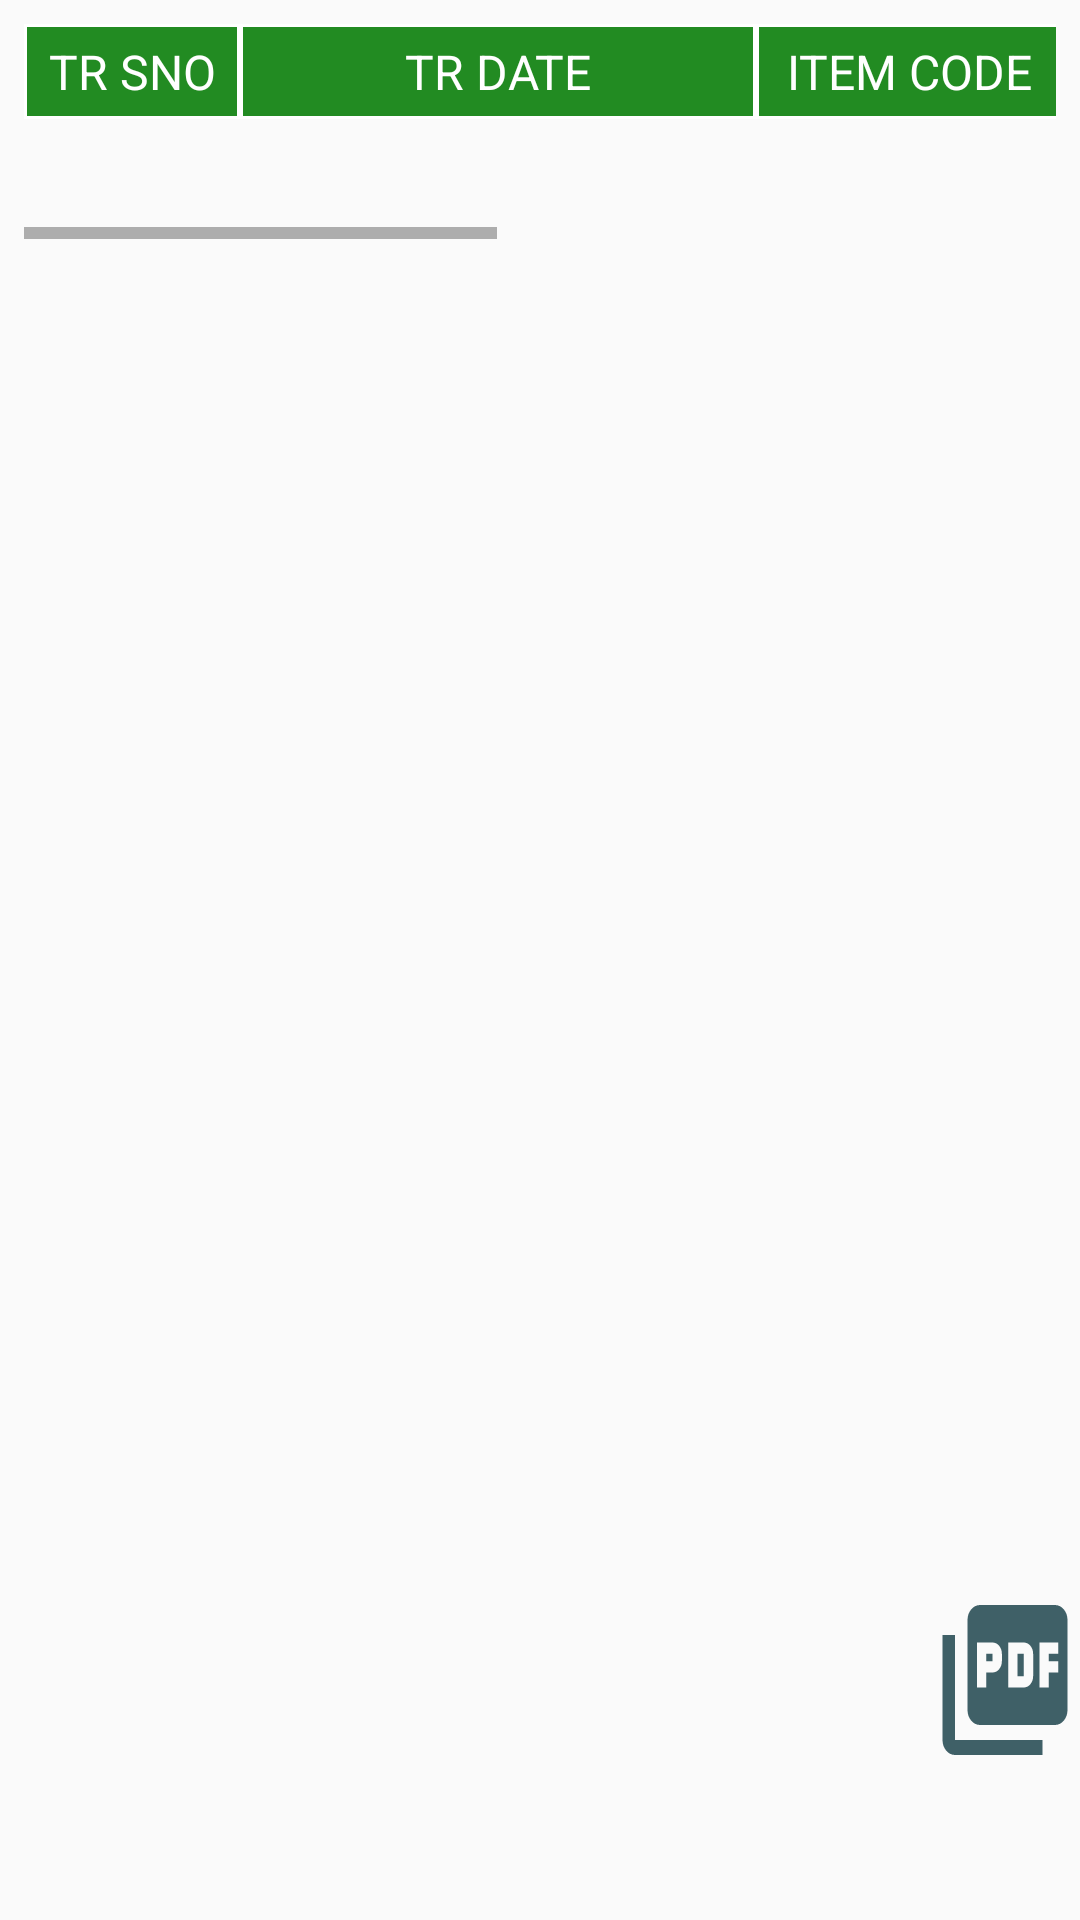

Icon bounding boxes for this 1080w x 1920h phone screenshot, format (x1=x1, y1=y1, x2=x2, y2=y2):
picture as pdf: (x1=942, y1=1605, x2=1068, y2=1755)
